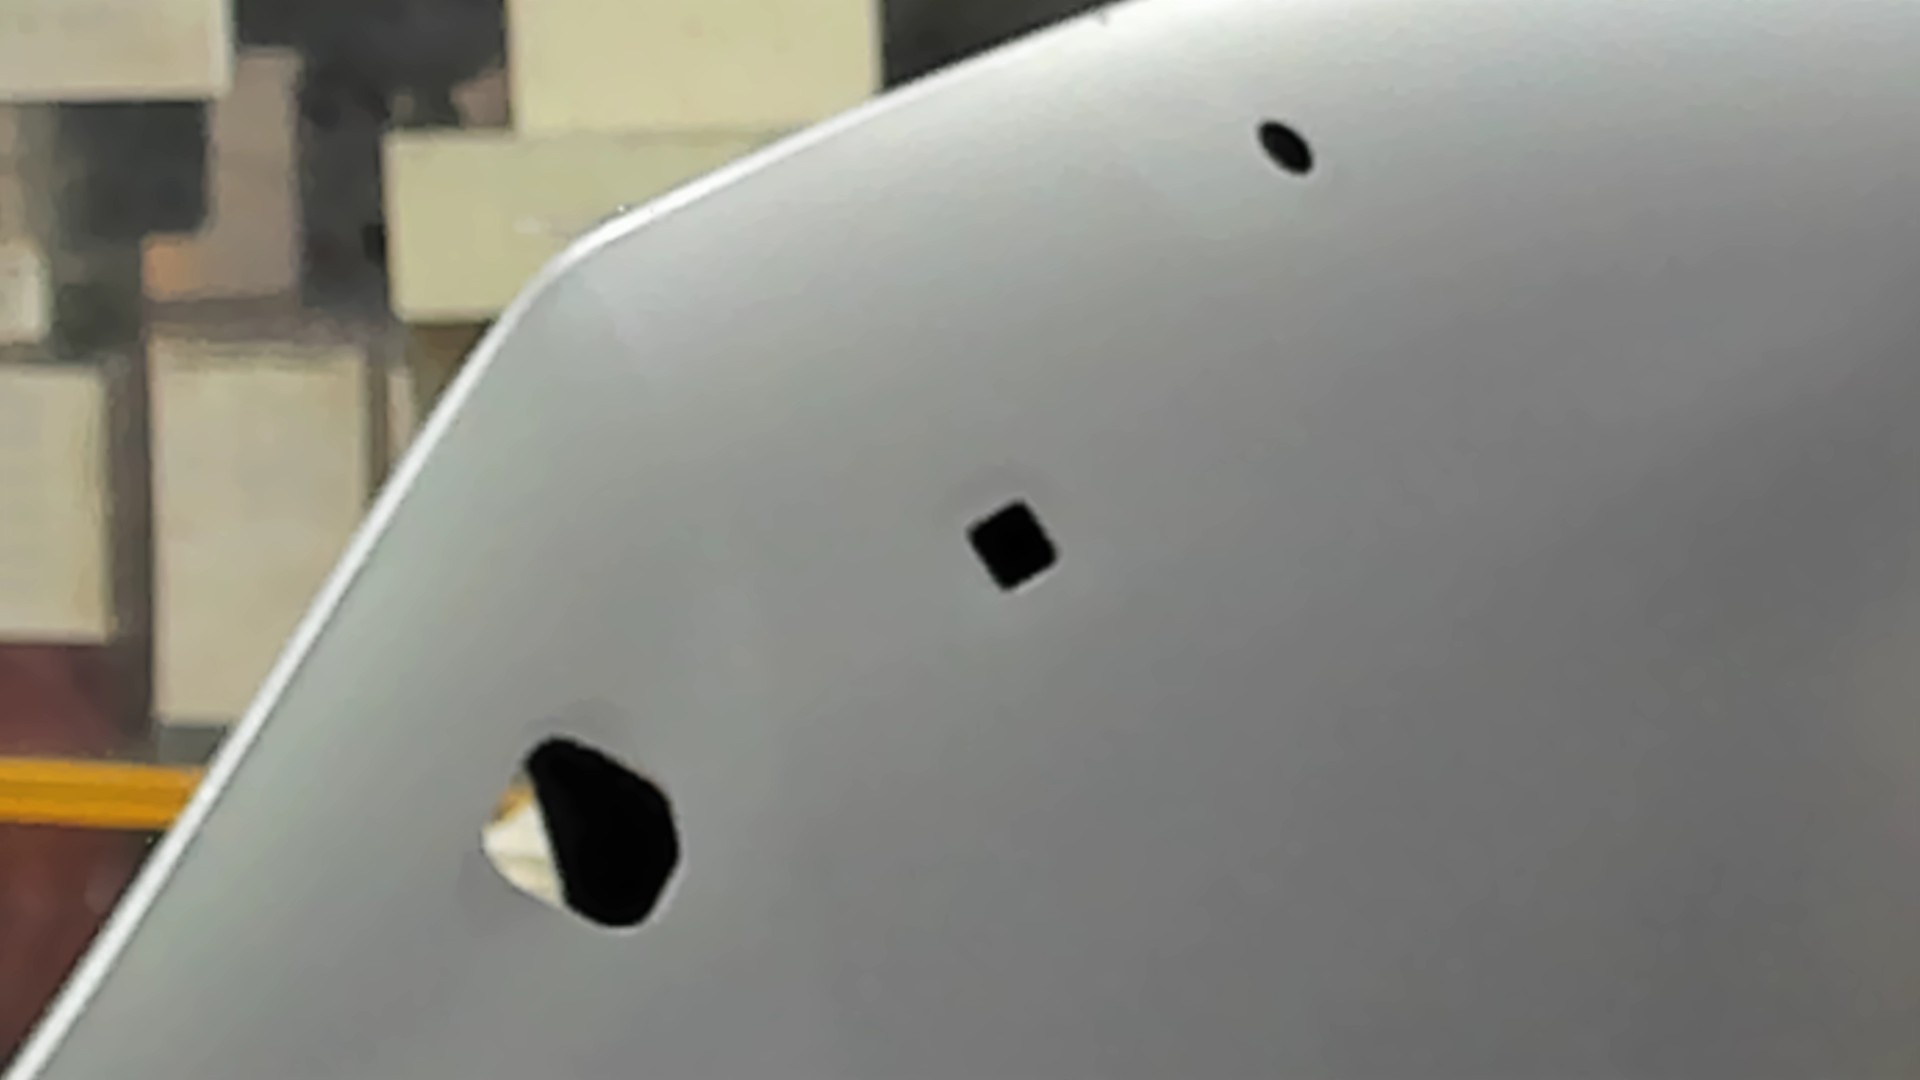chico: (1251, 115, 1315, 182)
grande: (479, 735, 687, 938)
mediano: (960, 496, 1067, 597)
